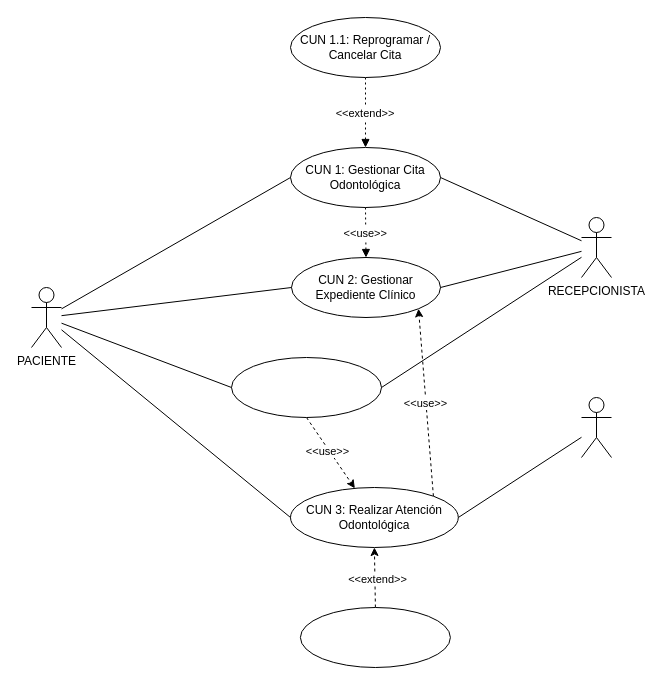
This 662x685 diagram has some shape labels left out. Here are the shapes that lost their labels. From the top down, the centre of each, then its label:
At point (306, 387): "CUN 4: Realizar Control Financiero".
At point (596, 427): "Dentista".
At point (374, 637): "CUN 4.1: Emitir Factura Oficial".
